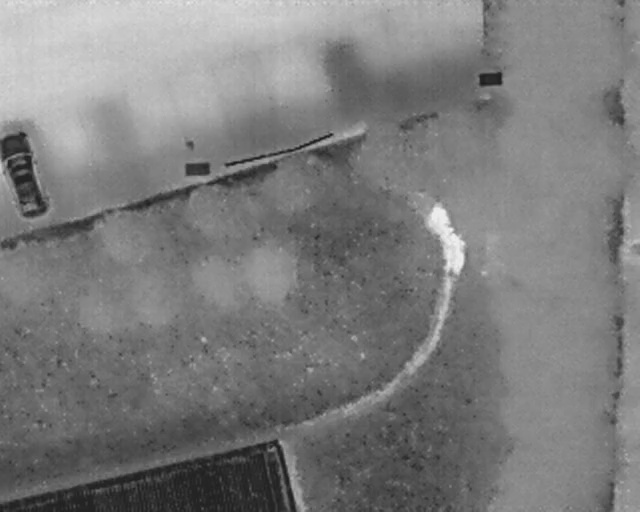Car: (0, 128, 50, 220)
